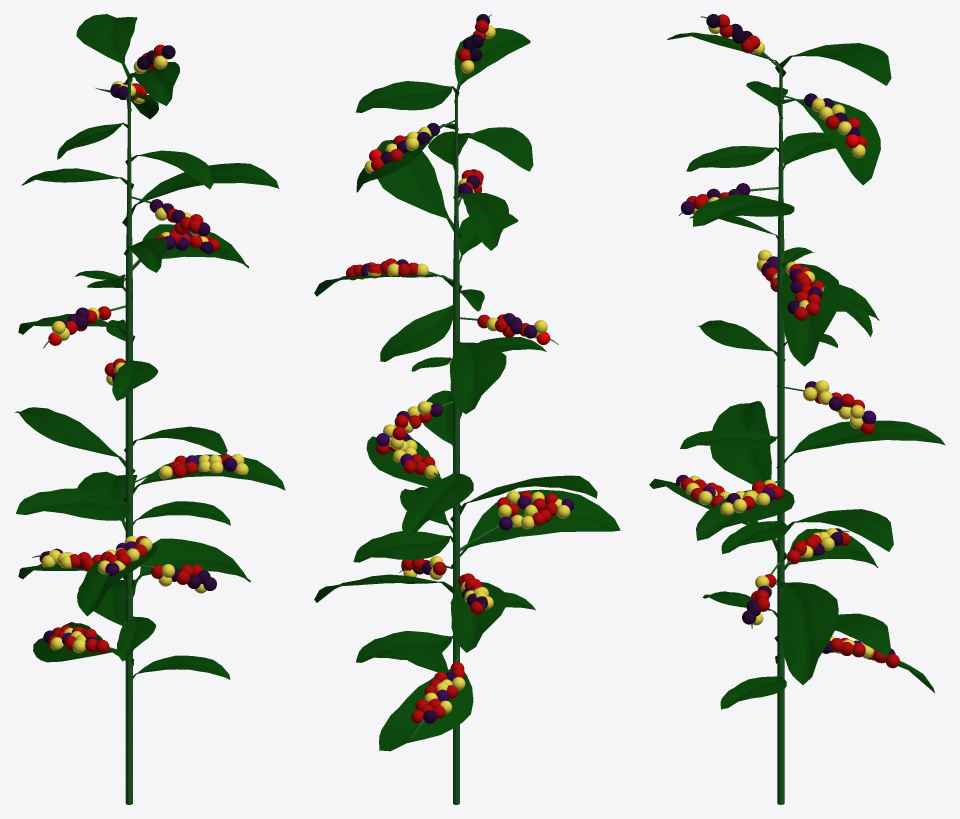
Rendered from Bignay2.glb.
The picture shows the model from 3 angles, left to right: view 1: azimuth 30°, elevation 25°; view 2: azimuth 150°, elevation 25°; view 3: azimuth 270°, elevation 25°; orthographic projection. The views are drawn at different scales.
Visible parts, largest first — view 1: leaf004, Sphere015, Circle014, Circle014_2, Circle014_1, Circle014_6; view 2: leaf004, Sphere015, Circle014, Circle014_2, Circle014_1; view 3: leaf004, Sphere015, Circle014, Circle014_2, Circle014_1.
Boxes of the visible parts, x1,y1,x2,y2 form: leaf004: (15,14,285,683); Sphere015: (32,44,248,653); Circle014: (42,79,211,804); Circle014_2: (100,208,219,566); Circle014_1: (97,207,208,574); Circle014_6: (149,199,210,236); leaf004: (314,28,620,751); Sphere015: (364,14,558,723); Circle014: (411,94,578,804); Circle014_2: (346,170,557,526); Circle014_1: (359,178,570,529); leaf004: (649,32,945,709); Sphere015: (700,14,899,668); Circle014: (679,68,916,804); Circle014_2: (681,192,824,507); Circle014_1: (679,197,815,505).
Size of the model in its own units: 0.5804 by 1.66 by 0.5648.
